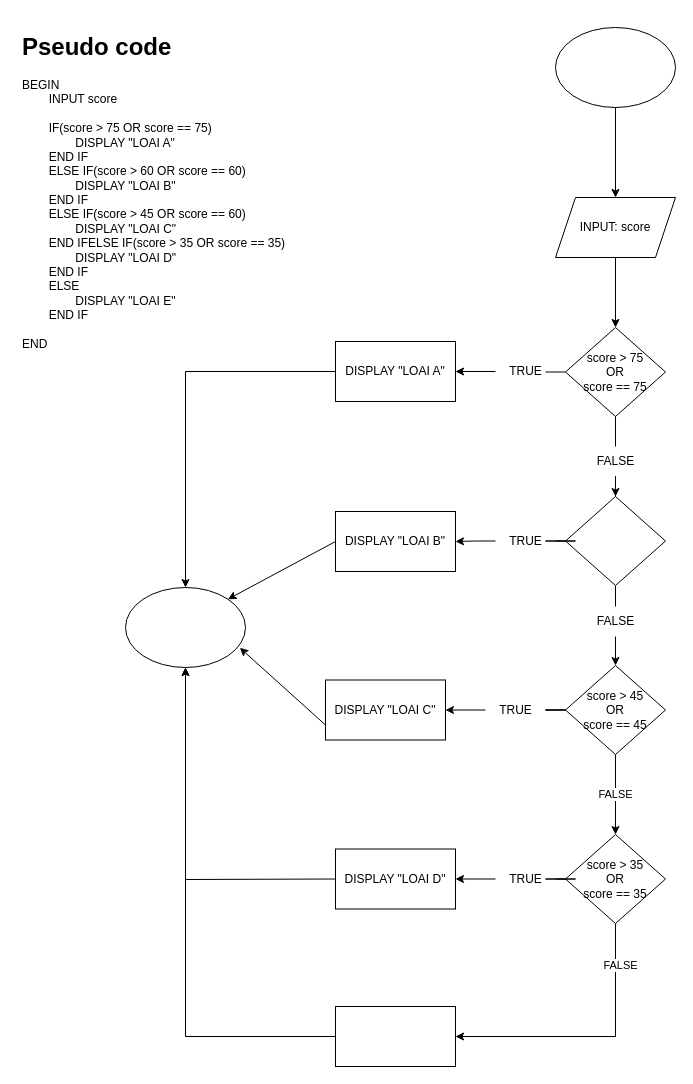
The diagram is 693 pixels wide and 1084 high, and some of its shapes have lost their labels. The shapes that lost their labels are listed below. From the top down, each one's centre as x and y in pixels, then its label:
(615,67): BEGIN
(615,541): score > 60 OR score == 60
(185,627): END
(395,1036): DISPLAY "LOAI E"
